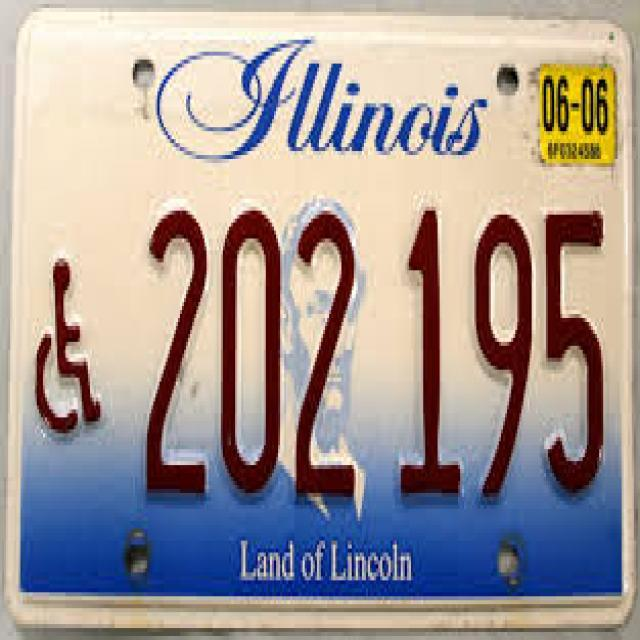symbol_of_access: (34, 254, 103, 438)
